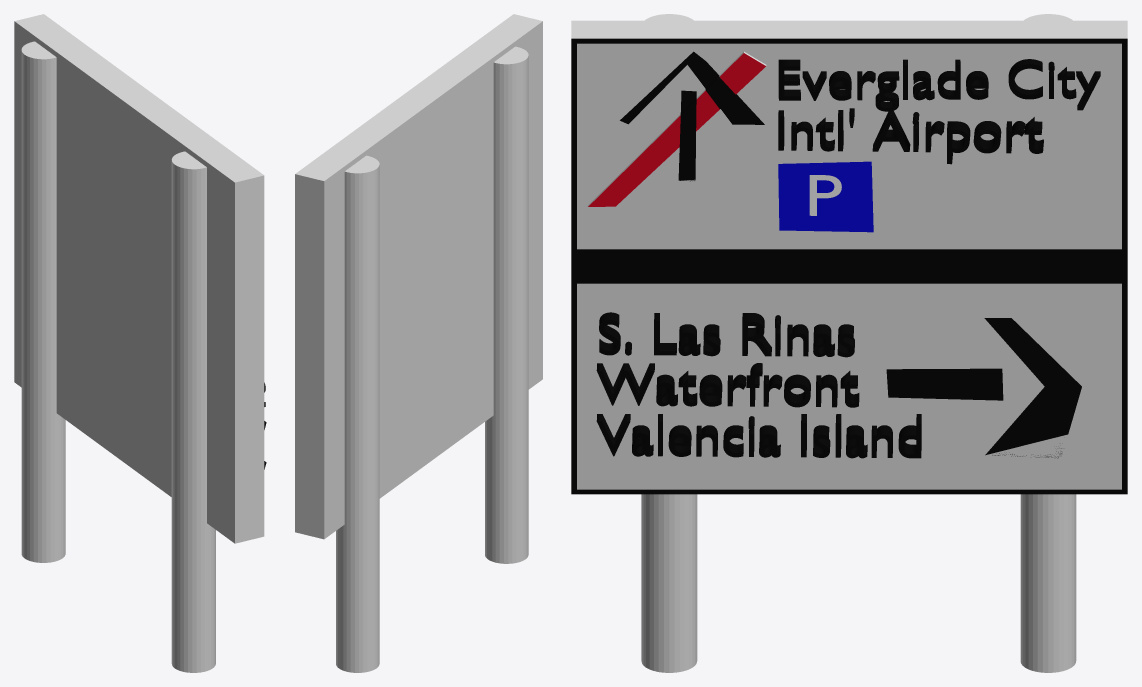
Rendered from UK_styled_junction_sign_1.fbx.
3 renders of one model, left to right at view 1: azimuth 30°, elevation 25°; view 2: azimuth 150°, elevation 25°; view 3: azimuth 270°, elevation 25°, orthographic. The views are drawn at different scales.
Visible parts, largest first — view 1: Cube, Cylinder, Cylinder.001; view 2: Cube, Cylinder, Cylinder.001; view 3: Cube, Text.003, Cylinder.001, Cylinder, Text, Text.001.
Part boxes in pixels (x1,y1,x2,y2): Cube: [14, 14, 264, 543]; Cylinder: [171, 151, 215, 672]; Cylinder.001: [21, 41, 65, 562]; Cube: [295, 14, 542, 539]; Cylinder: [485, 46, 528, 563]; Cylinder.001: [336, 155, 379, 672]; Cube: [571, 20, 1127, 494]; Text.003: [596, 312, 921, 458]; Cylinder.001: [1020, 14, 1076, 672]; Cylinder: [641, 14, 697, 672]; Text: [778, 59, 1100, 111]; Text.001: [778, 108, 1043, 164].
Size of the model in its own units: 1.76 by 12.71 by 9.99.
